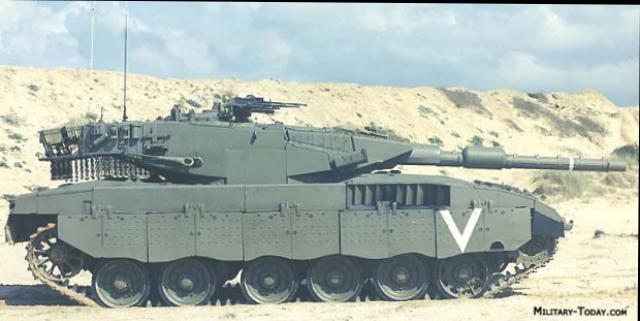tank: (5, 112, 564, 296)
